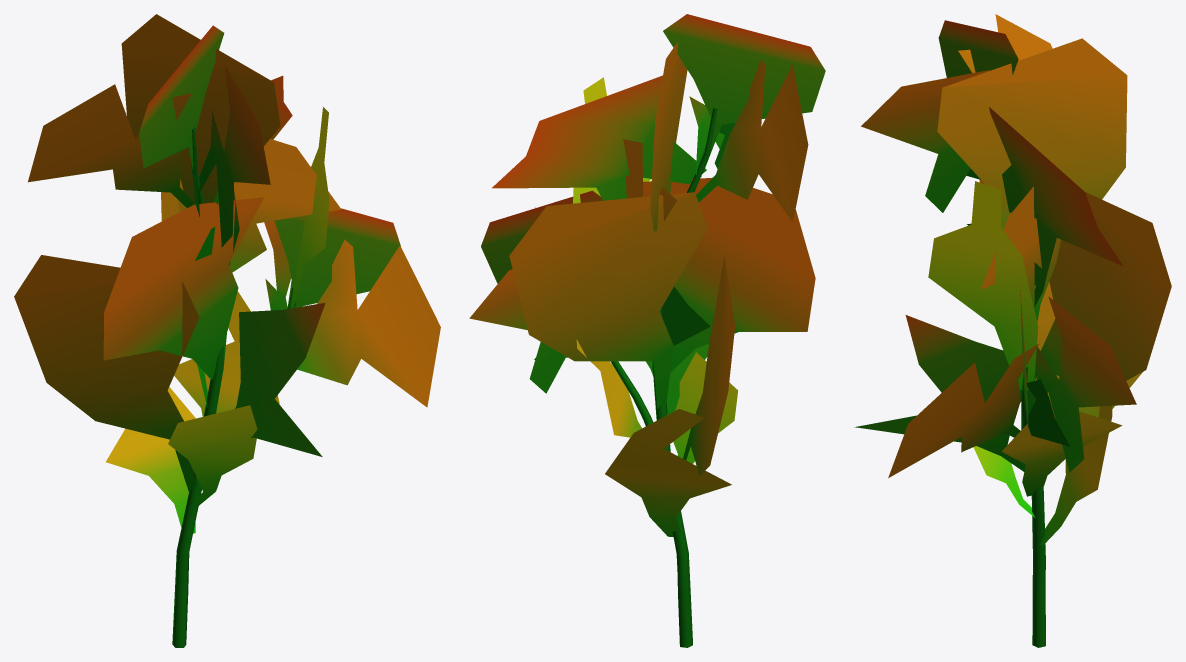
The model's file is Acacia_LOD0_Var3_semkO.fbx.
3 views of the same model, side by side, from view 1: azimuth 30°, elevation 25°; view 2: azimuth 150°, elevation 25°; view 3: azimuth 270°, elevation 25° (orthographic). The views are drawn at different scales.
Visible parts, largest first — view 1: _8c07_Var3_LOD0; view 2: _8c07_Var3_LOD0; view 3: _8c07_Var3_LOD0.
Part boxes in pixels (x1,y1,x2,y2): _8c07_Var3_LOD0: [14, 14, 440, 647]; _8c07_Var3_LOD0: [469, 14, 825, 647]; _8c07_Var3_LOD0: [854, 14, 1171, 647].
Size of the model in its own units: 44.09 by 76.53 by 35.61.
